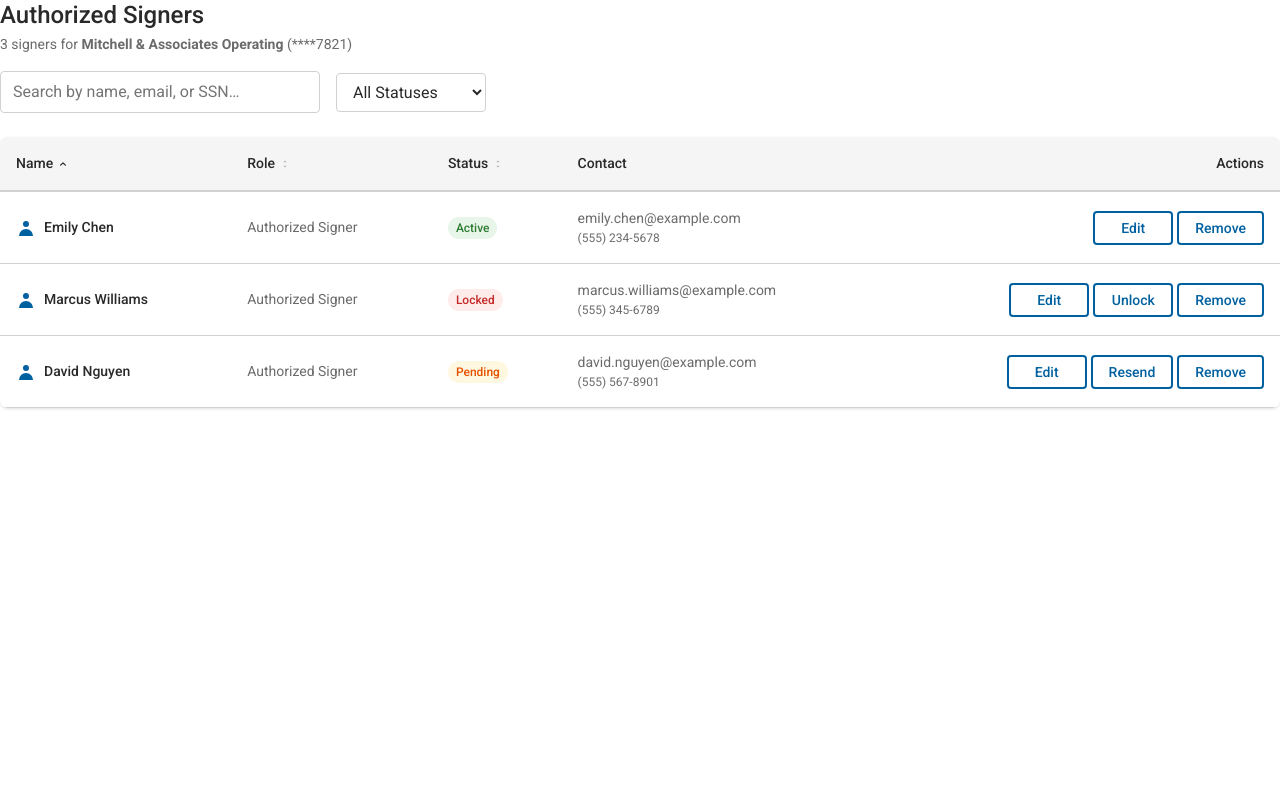
SignerList › remove signer modal › opens remove confirmation modal when Remove button is clicked
This screenshot has width=1280, height=800.
Click the button with aria-label "remove signer": (1221, 228) x1=1177 y1=210 x2=1264 y2=244
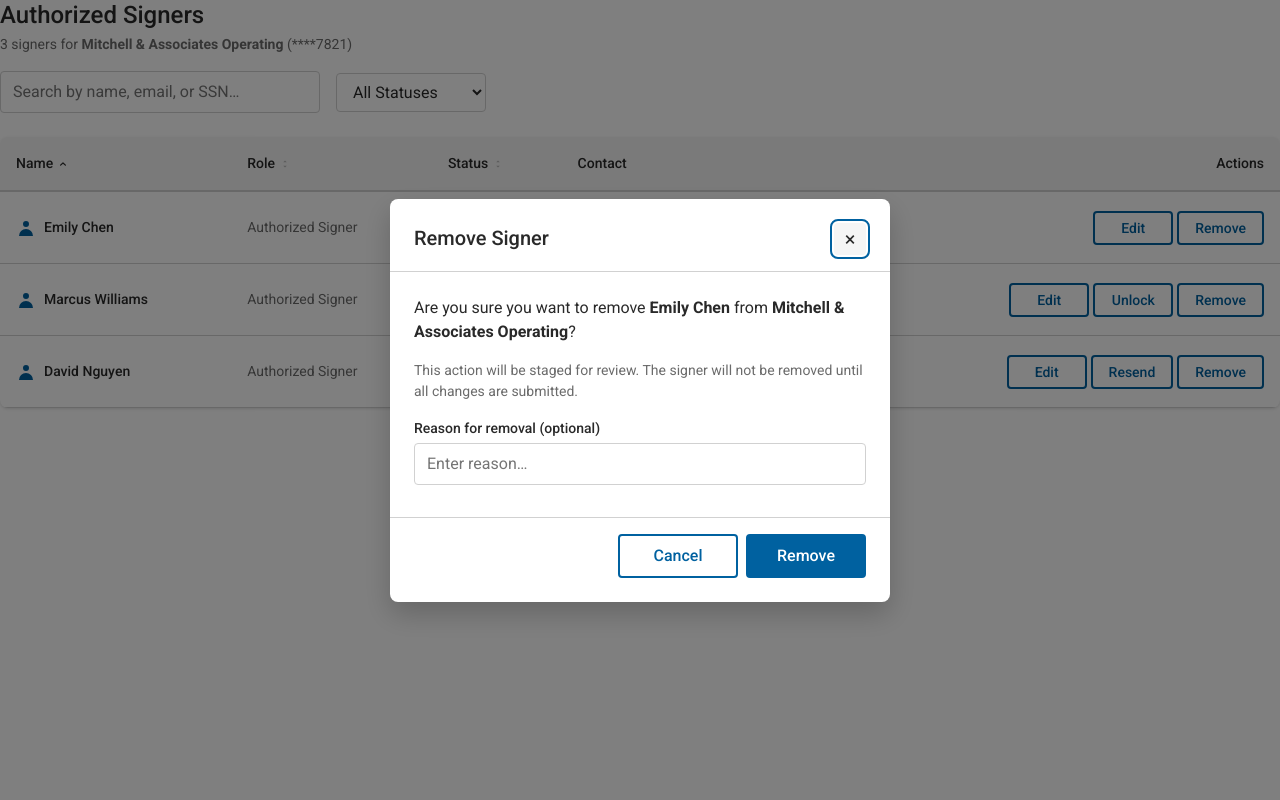
Expected: the text "Are you sure you want to remove" is shown, x1=414 y1=298 x2=646 y2=316
